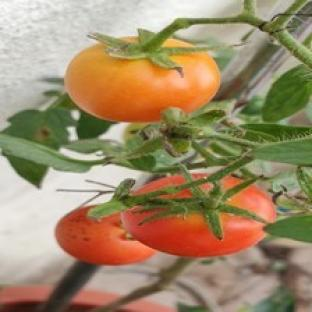Tomato: (65, 44, 220, 122), (122, 207, 266, 257), (56, 207, 155, 264)
